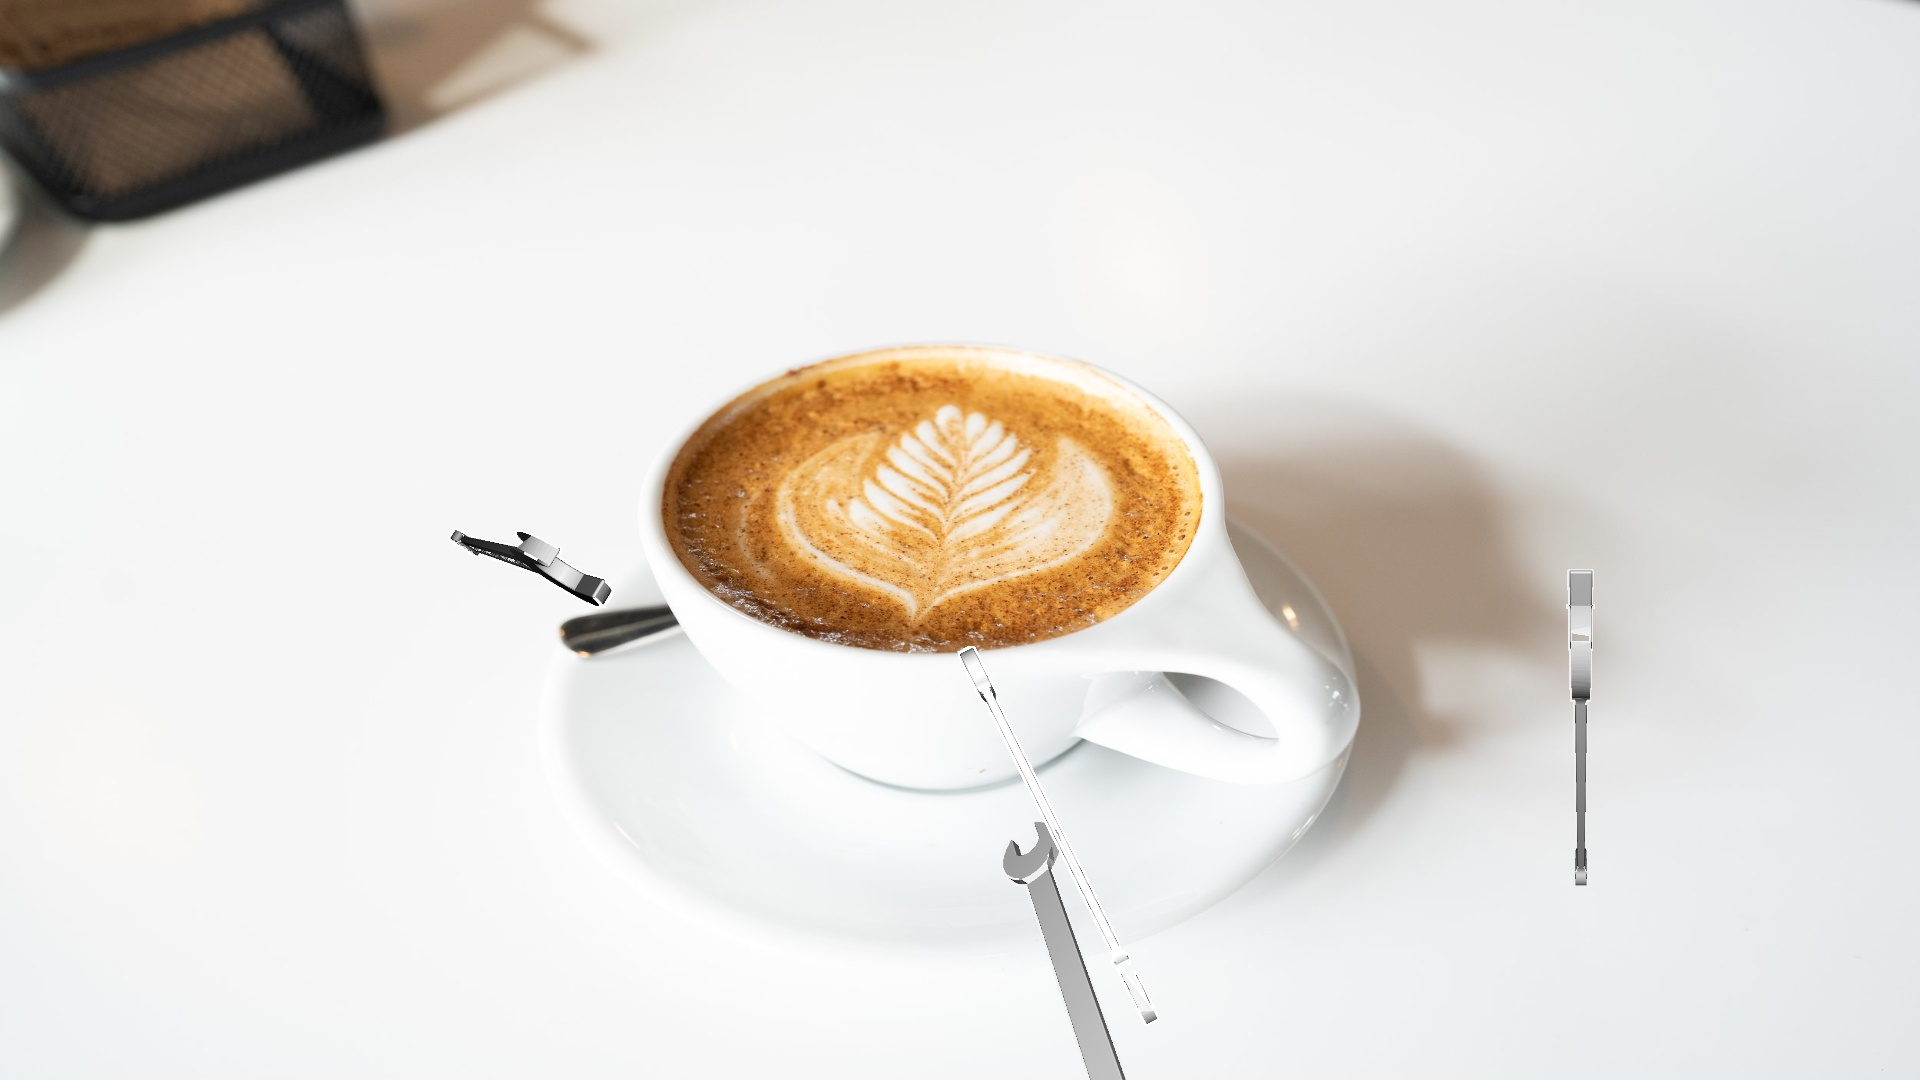Mixed Key: (957, 646, 1158, 1025), (1001, 820, 1127, 1079), (448, 529, 613, 608), (1567, 568, 1594, 887)
